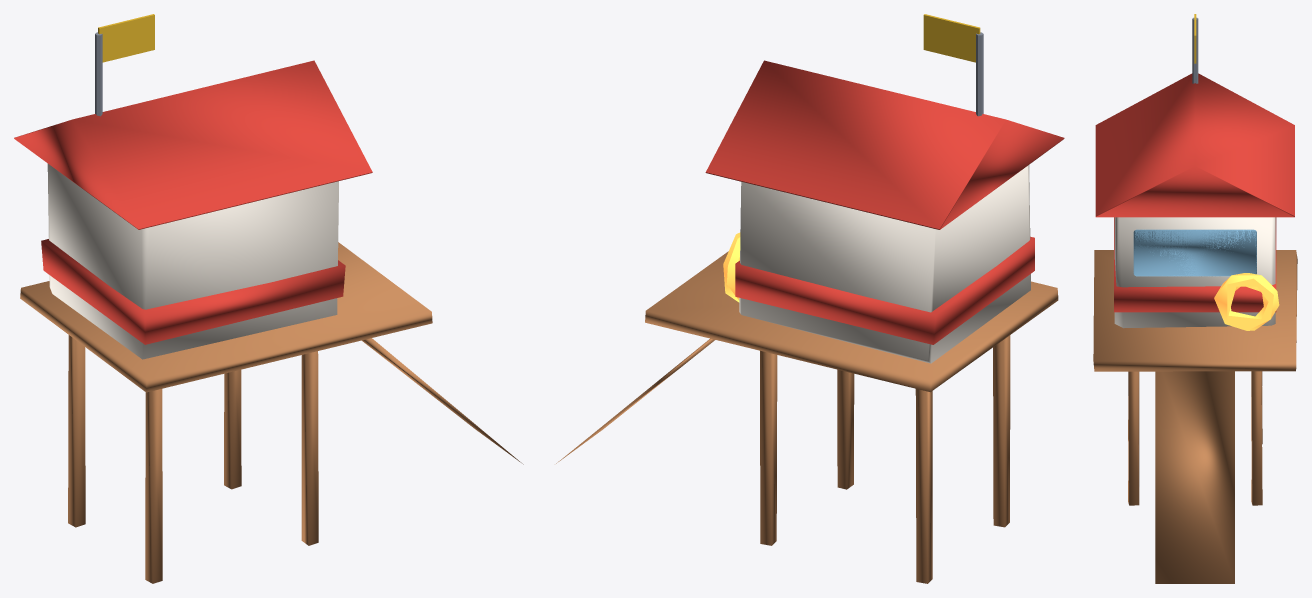
File: lifeguard_tower.glb
The picture shows the model from 3 angles, left to right: view 1: azimuth 30°, elevation 25°; view 2: azimuth 150°, elevation 25°; view 3: azimuth 270°, elevation 25°; orthographic projection. The views are drawn at different scales.
Parts seen in each view (by area): view 1: lifeguard_tower; view 2: lifeguard_tower; view 3: lifeguard_tower.
Part boxes in pixels (x1=…): lifeguard_tower: x1=14, y1=14, x2=523, y2=583; lifeguard_tower: x1=556, y1=14, x2=1064, y2=583; lifeguard_tower: x1=1093, y1=14, x2=1297, y2=583.
Size of the model in its own units: 3.84 by 4.53 by 1.99.
1 material, 1 textured.
